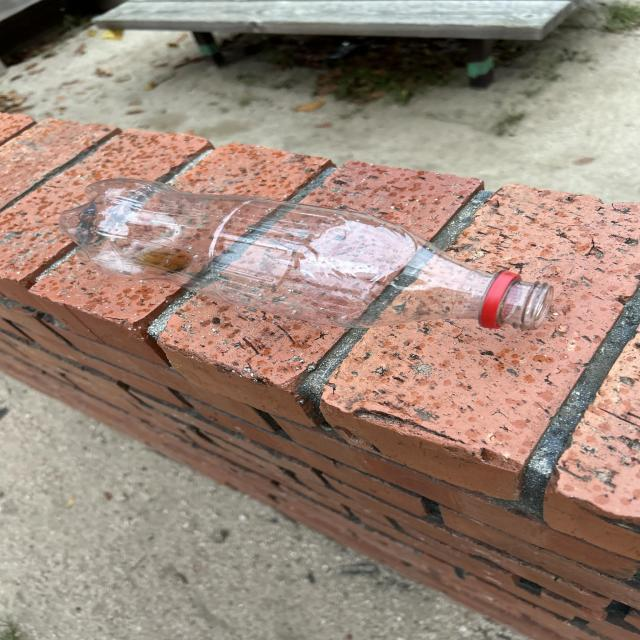empty: (59, 178, 552, 330)
